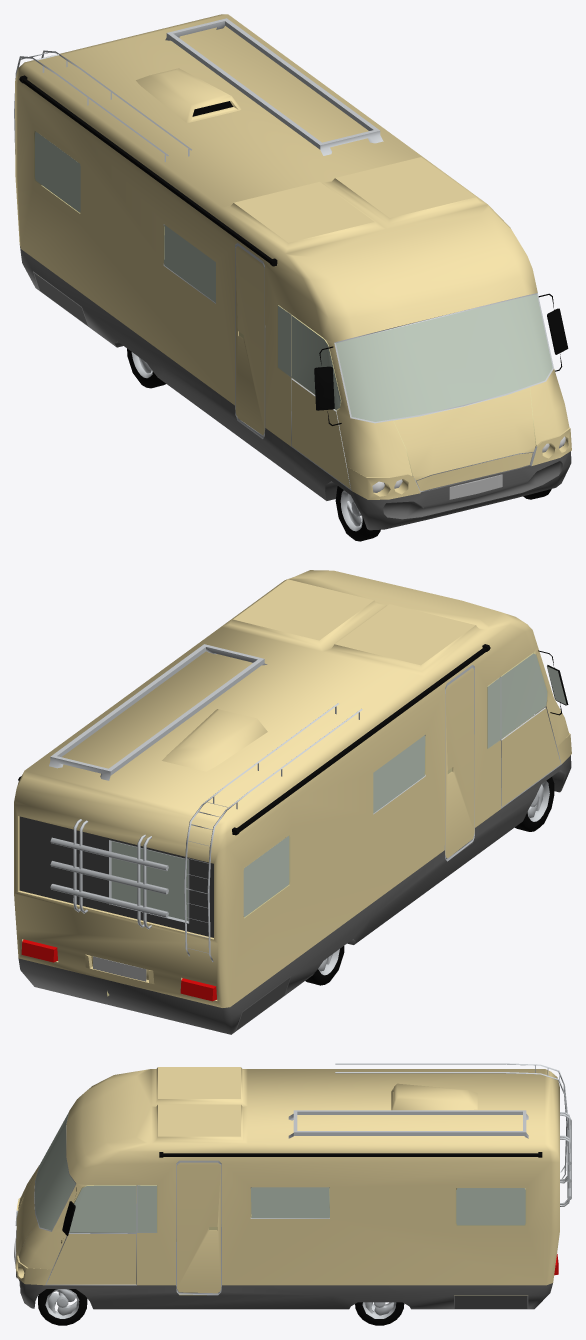
The model's file is bus.FBX.
The picture shows the model from 3 angles, top to bottom: view 1: azimuth 30°, elevation 25°; view 2: azimuth 150°, elevation 25°; view 3: azimuth 270°, elevation 25°; orthographic projection. The views are drawn at different scales.
Visible parts, largest first — view 1: hymer; view 2: hymer; view 3: hymer.
Part boxes in pixels (x1=…): hymer: x1=14, y1=14, x2=571, y2=541; hymer: x1=14, y1=570, x2=571, y2=1034; hymer: x1=14, y1=1063, x2=571, y2=1325.
Bounding box in the file's own units: 87.32 × 85.73 × 221.
